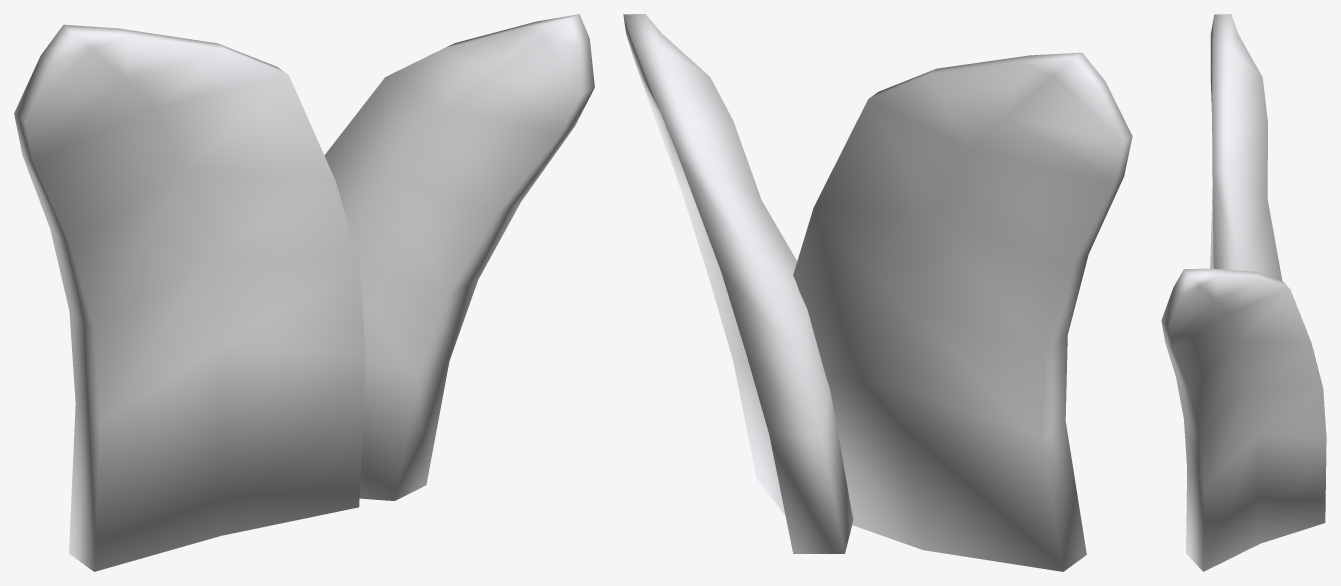
The model's file is grass-17_col.fbx.
The picture shows the model from 3 angles, left to right: view 1: azimuth 30°, elevation 25°; view 2: azimuth 150°, elevation 25°; view 3: azimuth 270°, elevation 25°; orthographic projection. The views are drawn at different scales.
Visible parts, largest first — view 1: grass-17.col; view 2: grass-17.col; view 3: grass-17.col.
Boxes of the visible parts, left/top/right/bottom form: grass-17.col: left=14, top=14, right=594, bottom=571; grass-17.col: left=623, top=14, right=1132, bottom=571; grass-17.col: left=1161, top=14, right=1326, bottom=571.
Bounding box in the file's own units: 0.0796 × 0.0743 × 0.0262.
1 material, 1 textured.
